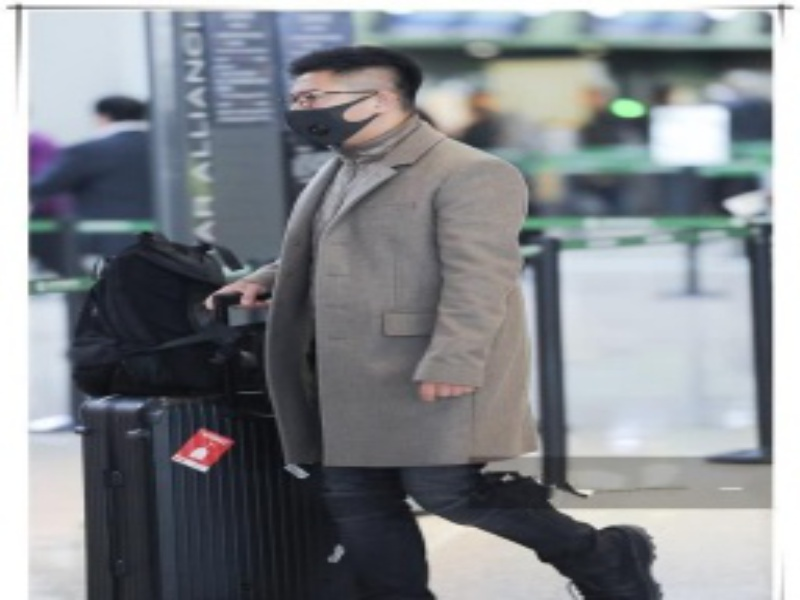ManaoArotava: (274, 37, 407, 180)
